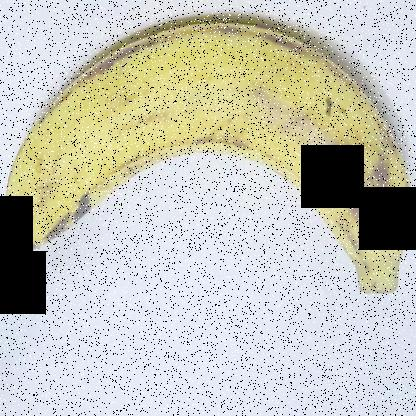overripe: (2, 7, 413, 308)
